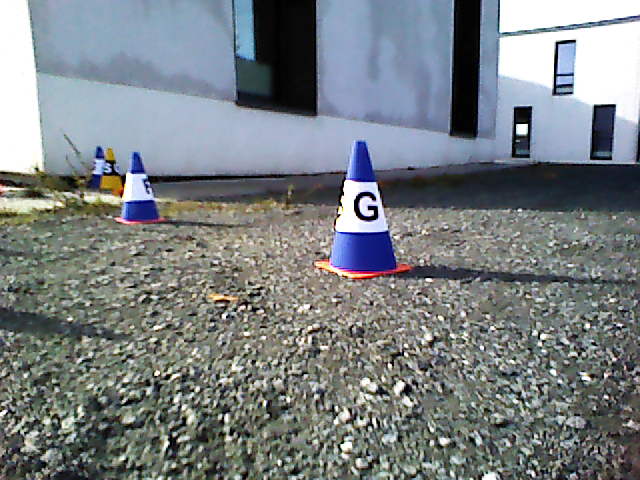bluecone: (332, 140, 398, 269), (121, 151, 159, 219), (90, 147, 104, 190)
yellowcone: (101, 149, 123, 189)
